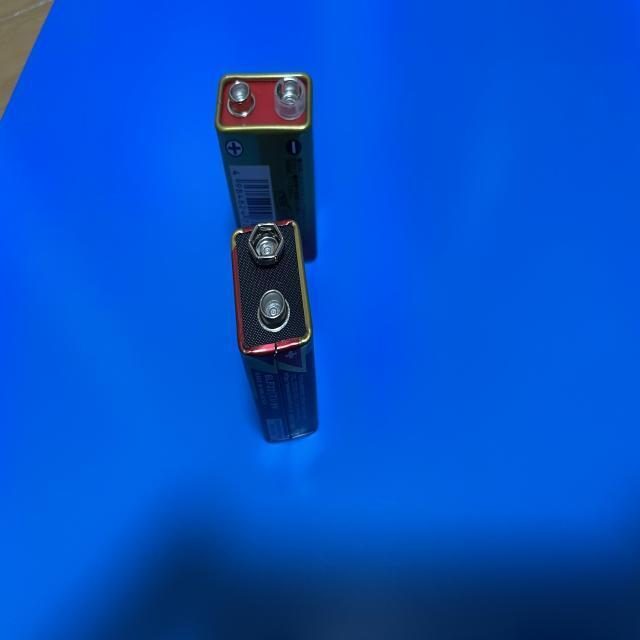9V: (229, 218, 321, 443), (214, 73, 318, 261)
